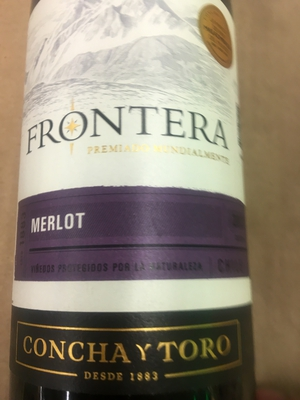frontera merlot: (14, 2, 265, 400)
